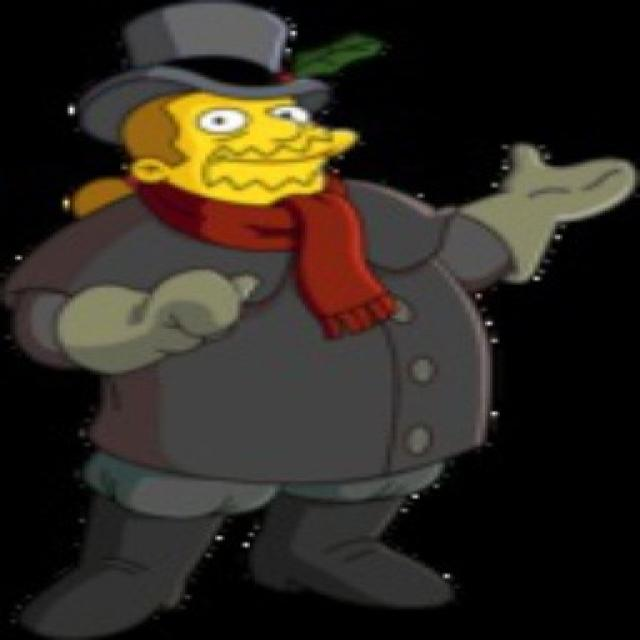Comic Book Guy: (96, 84, 369, 211)
